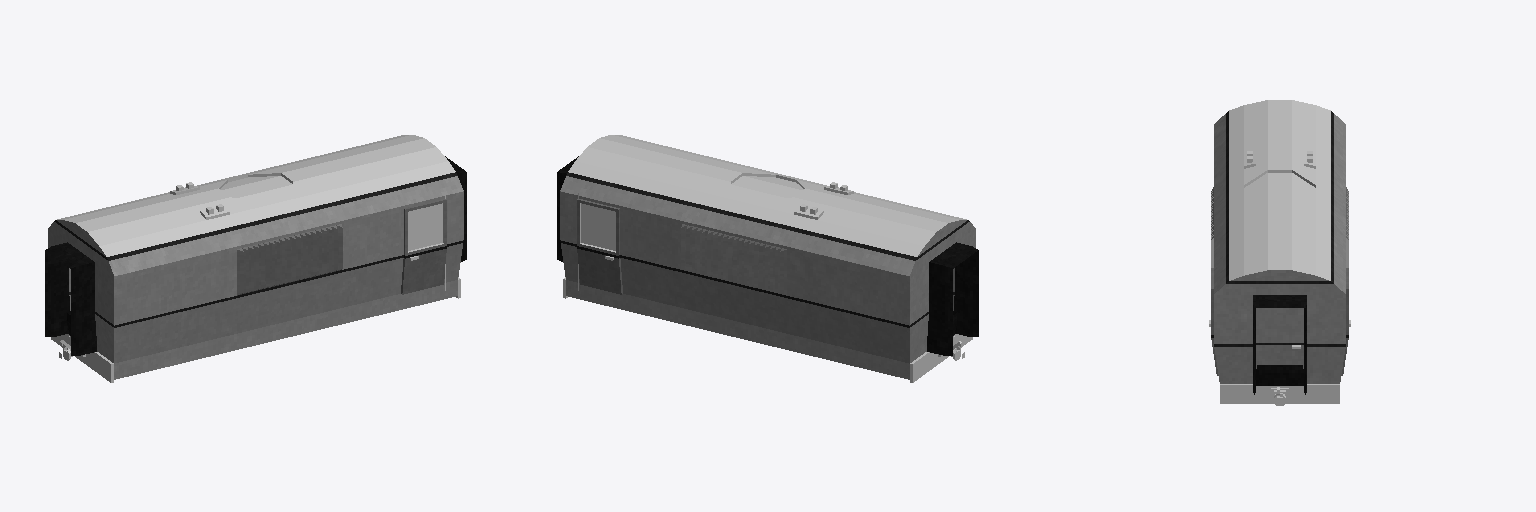
The picture shows the model from 3 angles: view 1: azimuth 30°, elevation 25°; view 2: azimuth 150°, elevation 25°; view 3: azimuth 270°, elevation 25°; orthographic projection.
Visible parts, largest first — view 1: FRAME_body, FRAME_corridor.001, DOOR_2_EXTERNAL, FRAME_end2.001; view 2: FRAME_body, FRAME_corridor.001, DOOR_1_EXTERNAL, FRAME_end2.001; view 3: FRAME_body, DOOR_3_CONNECTING_TL_0.6875_Z, FRAME_end2, FRAME_corridor.002, COUPLED_REAR_4.
Part boxes in pixels (bbox=[...]): FRAME_body: bbox=[48, 135, 463, 379]; FRAME_corridor.001: bbox=[45, 242, 96, 355]; DOOR_2_EXTERNAL: bbox=[401, 199, 446, 294]; FRAME_end2.001: bbox=[51, 334, 113, 382]; FRAME_body: bbox=[560, 135, 975, 379]; FRAME_corridor.001: bbox=[927, 242, 978, 355]; DOOR_1_EXTERNAL: bbox=[577, 199, 622, 294]; FRAME_end2.001: bbox=[910, 334, 972, 382]; FRAME_body: bbox=[1211, 100, 1348, 383]; DOOR_3_CONNECTING_TL_0.6875_Z: bbox=[1256, 308, 1303, 368]; FRAME_end2: bbox=[1220, 384, 1339, 403]; FRAME_corridor.002: bbox=[1253, 295, 1306, 394]; COUPLED_REAR_4: bbox=[1256, 365, 1303, 385].
Size of the model in its own units: 9.5 by 3.38 by 2.94.
Materials: 6 (3 with a texture image).